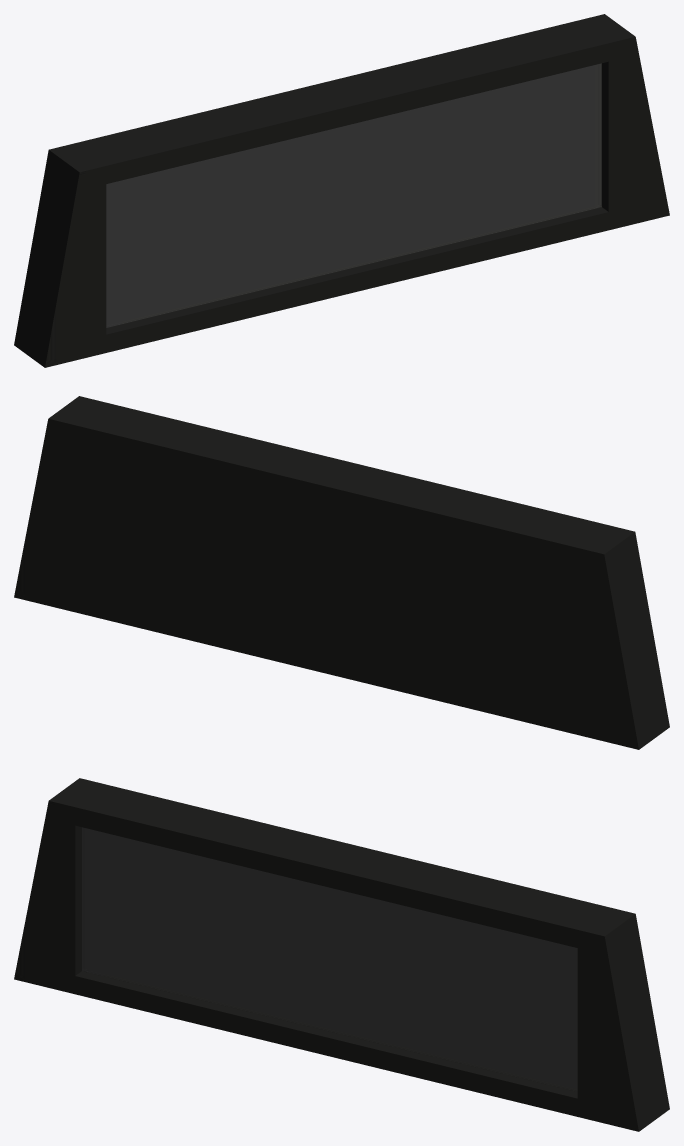
Rendered from Relógio.fbx.
The picture shows the model from 3 angles, top to bottom: view 1: azimuth 30°, elevation 25°; view 2: azimuth 150°, elevation 25°; view 3: azimuth 330°, elevation 25°; orthographic projection.
Visible parts, largest first — view 1: pCube2; view 2: pCube2; view 3: pCube2.
Boxes of the visible parts, <box> form: pCube2: <box>14,14,669,367</box>; pCube2: <box>14,396,669,749</box>; pCube2: <box>14,778,669,1131</box>.
Bounding box in the file's own units: 3.94 × 1.13 × 0.3386.
1 material, 1 textured.
